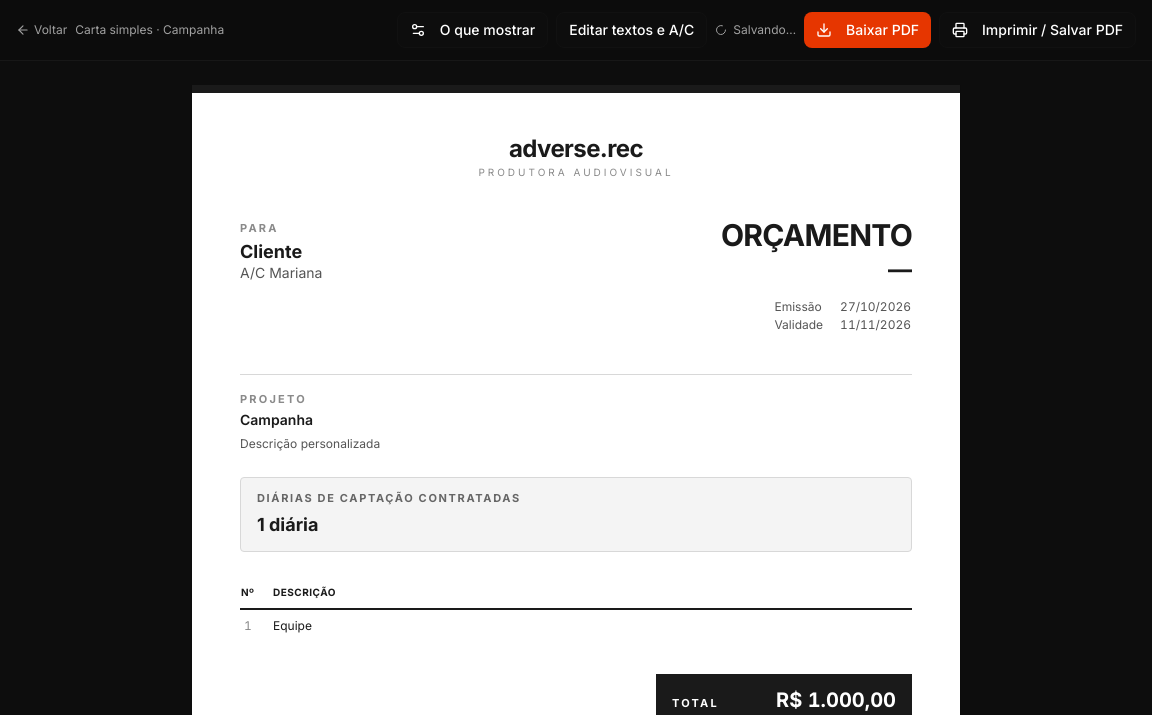
Scenario: carta simples — edição e exportação › salva antes de exportar e mantém A/C e textos ao reabrir
The image size is (1152, 715).
Earlier steps of the test are not shown.
Later steps or results of the test are not shown.
What coordinates should you click on to do the following:
click the button "Editar textos e A/C"
I would click on:
 (632, 30)
Its box is [556,12,707,48].
What coordinates should you click on to do the following:
click the button "Baixar PDF"
I would click on:
 (868, 30)
Its box is [804,12,931,48].
(page scrolled)
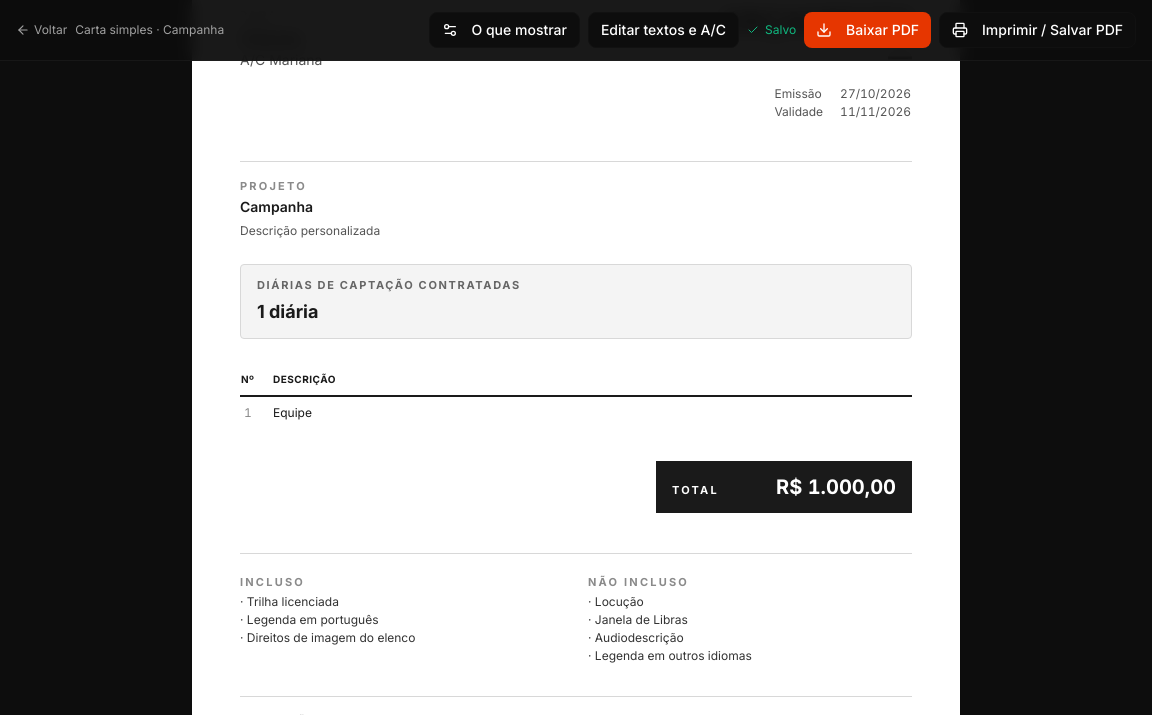
Expected: the element with class "nota" shows "1 diária", [257,300,318,322]
Expected: the element with class "nota" shows "Descrição personalizada", [240,222,380,238]
